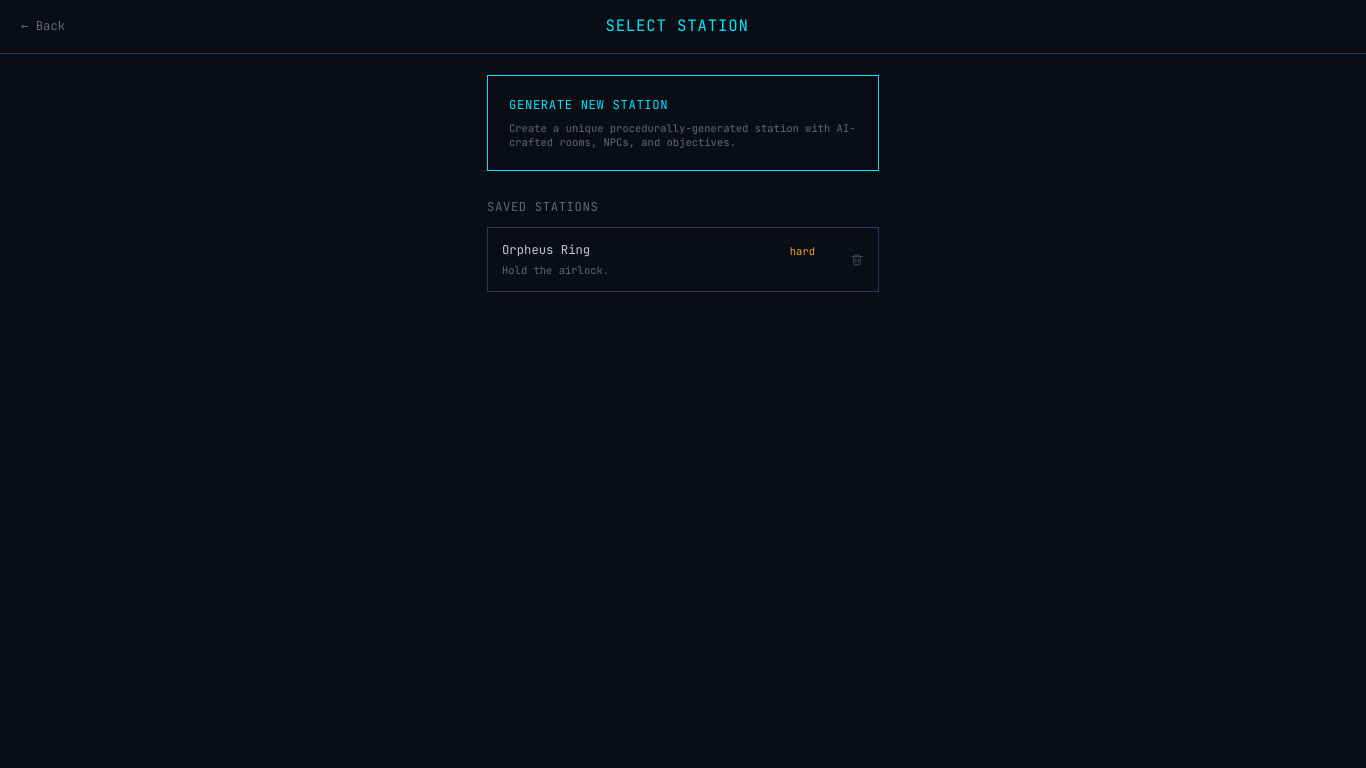
StationPickerScreen deletion contracts › [O] opens one confirmation dialog for one station delete icon
The width and height of the screenshot is (1366, 768).
Click the button named "delete orpheus ring" at [857, 260], box [836,228,878,291]
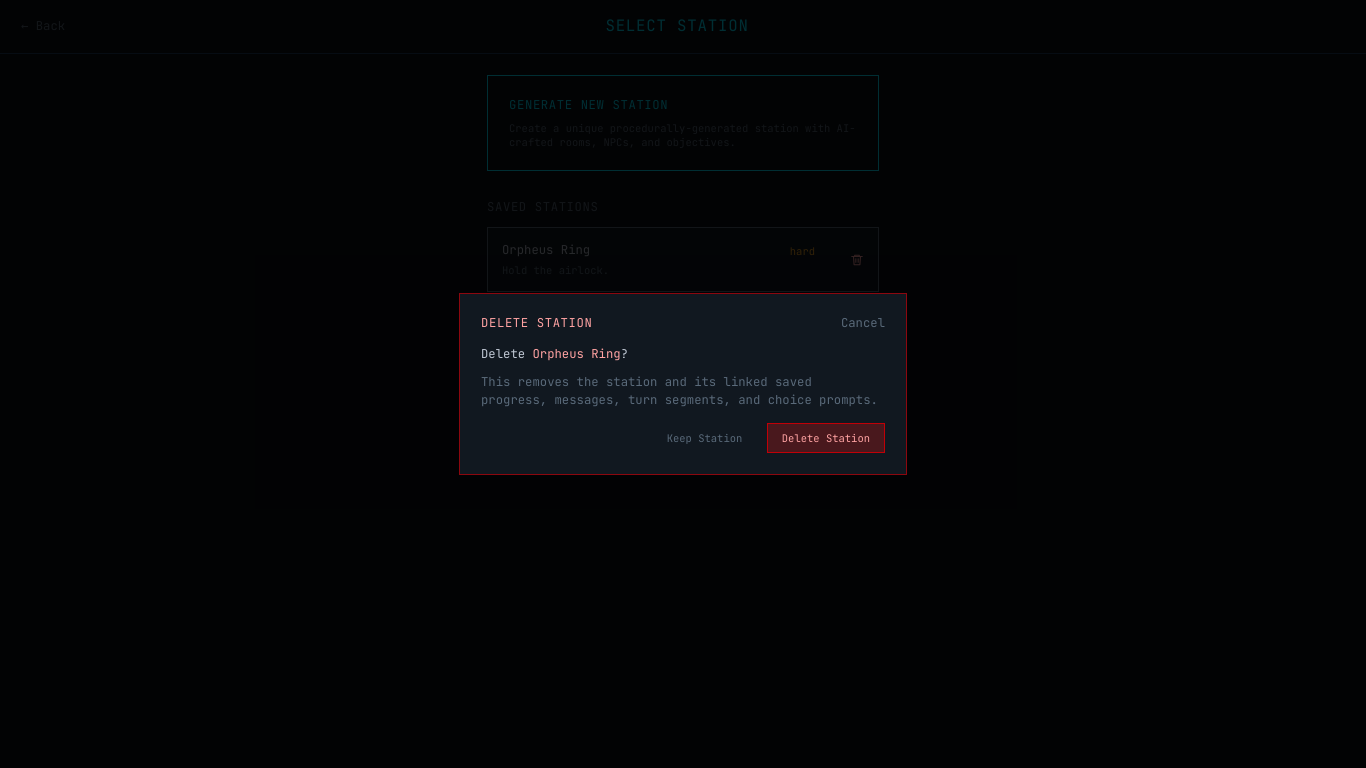
Expected: the dialog "Delete Station" is shown, [459,293,907,475]
Expected: the text "Orpheus Ring" is shown, [532,346,621,362]
